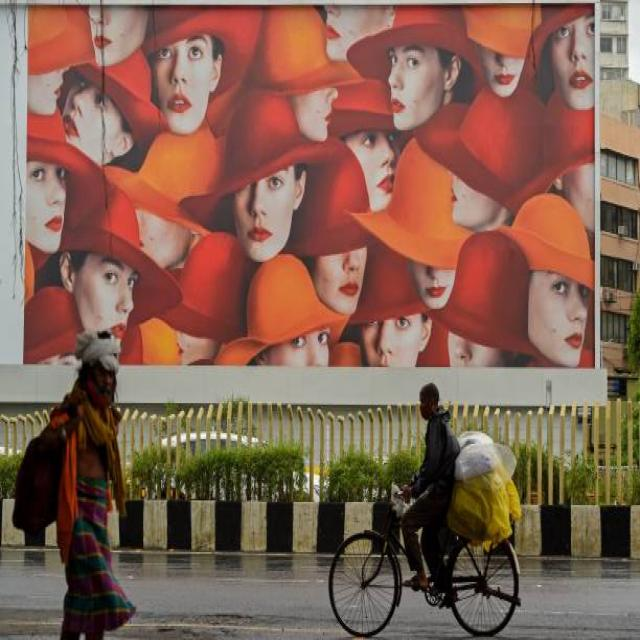Werbetafel frei: (1, 2, 610, 403)
